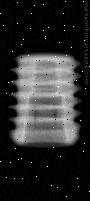AGS Medikal: (10, 50, 82, 149)
